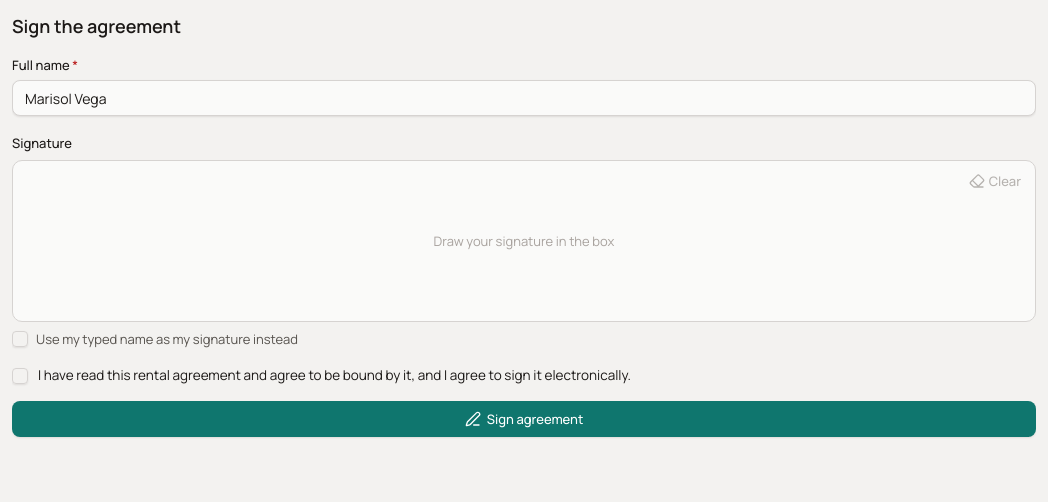
SignAgreementForm › sends nothing until there is consent and a signature, and says what is missing
The width and height of the screenshot is (1048, 502).
Click the button "Sign agreement" at (524, 419), box [12,401,1036,437]
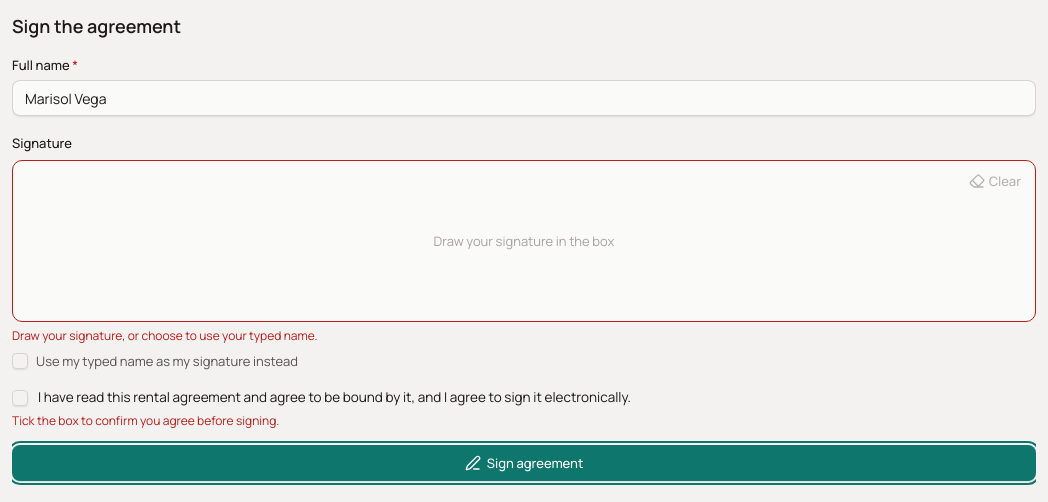
Expected: the text "Draw your signature, or choose to use your typed name." is shown, [12,327,318,344]
Expected: the text "Tick the box to confirm you agree before signing." is shown, [12,412,279,429]
